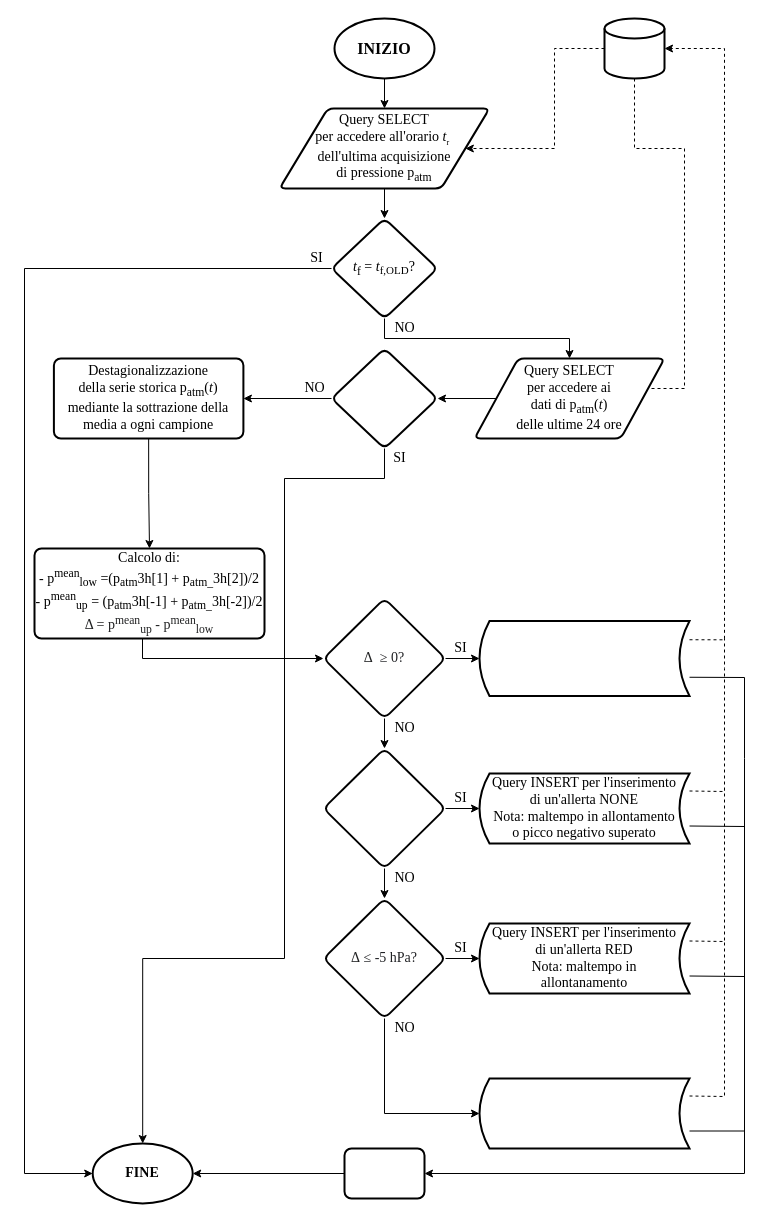
Some shapes in this 770 by 1221 pixel diagram are drawn without their labels. Here are the shapes that lost their labels. From the top down, the centre of each, then its label:
At (x=634, y=48): "DB".
At (x=384, y=398): "p atm ( t ) è vuota?".
At (x=584, y=658): "Query INSERT per l'inserimento di un'allerta NONE Nota: pressione in aumento".
At (x=384, y=808): "Δ > Δ OLD ?".
At (x=584, y=1113): "Query INSERT per l'inserimento di un'allerta NONE Nota: pressione in diminuzione".
At (x=384, y=1173): "t f,OLD = t f Δ OLD = Δ".
